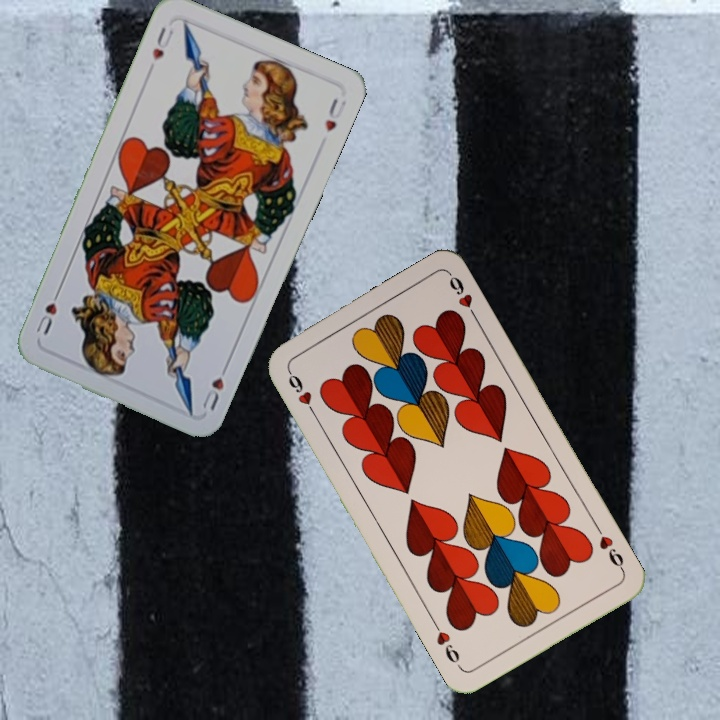H9: (591, 521, 628, 575), (283, 365, 319, 419)
HU: (198, 358, 232, 413), (148, 23, 177, 63)
